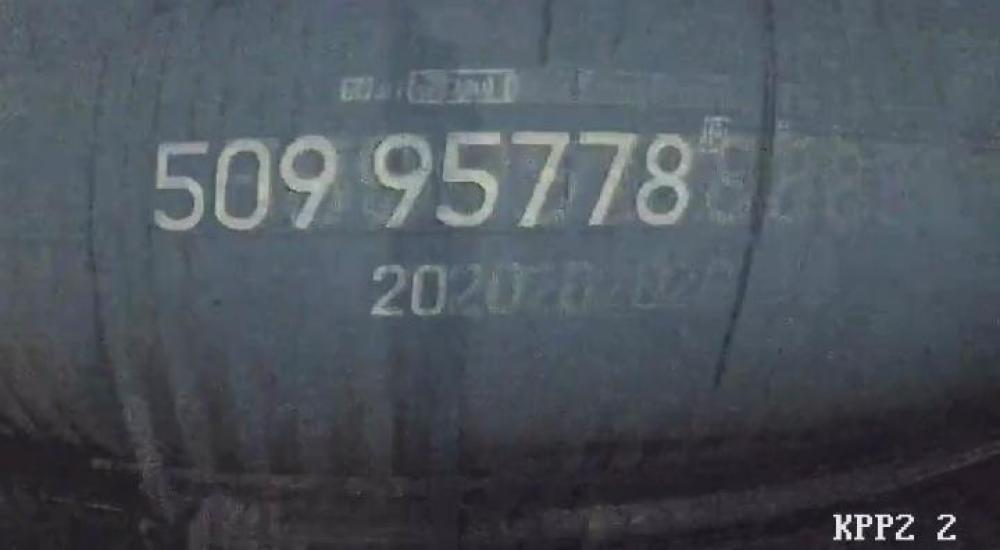Wagon-number: (142, 124, 702, 235)
